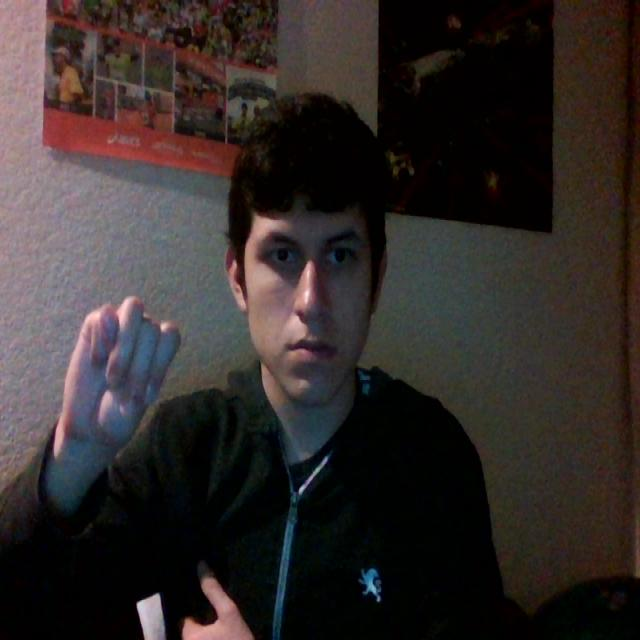M: (43, 268, 181, 468)
